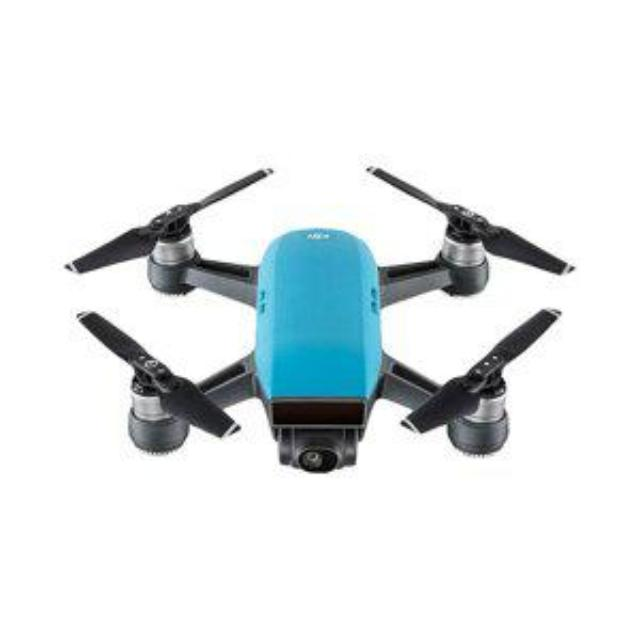drone: (51, 84, 579, 536)
